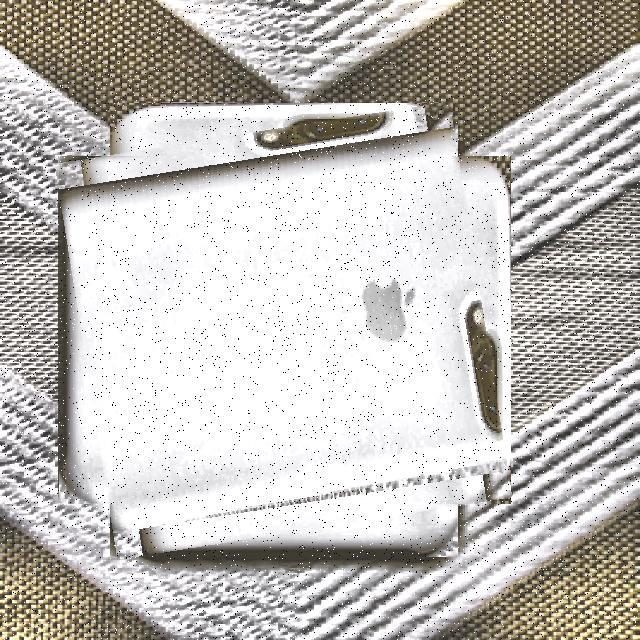Phone: (70, 115, 498, 546)
